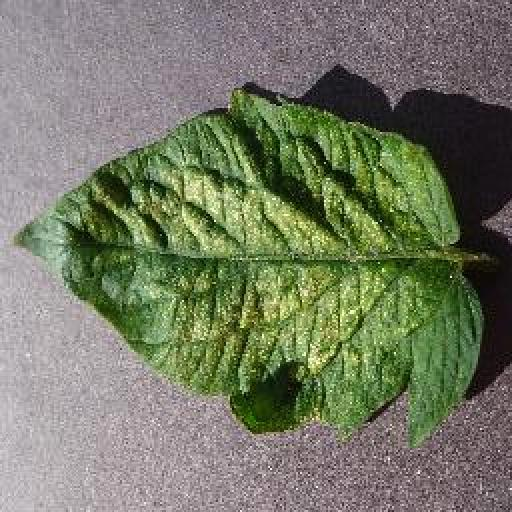disease_tomato: (10, 82, 480, 442)
